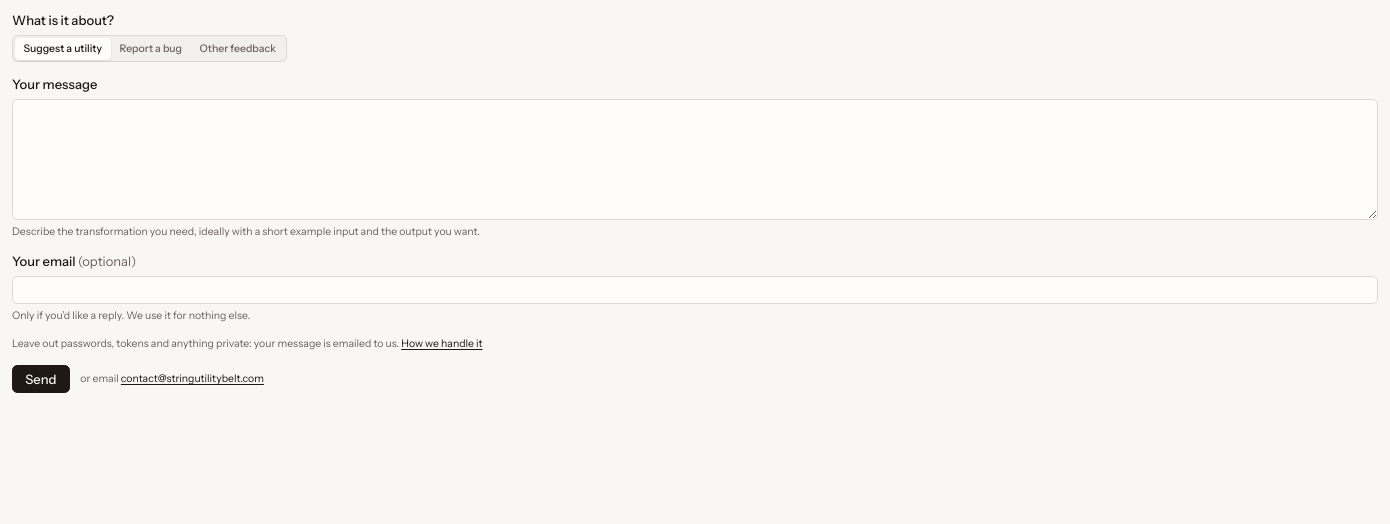
Test: FeedbackForm › offers the visitor’s email app, with the message written out, when it cannot be sent
This screenshot has width=1390, height=524.
In the text box labelled "Your message": {"x": 695, "y": 160} [12,99,1378,220], type "CSV to a Markdown table, please"
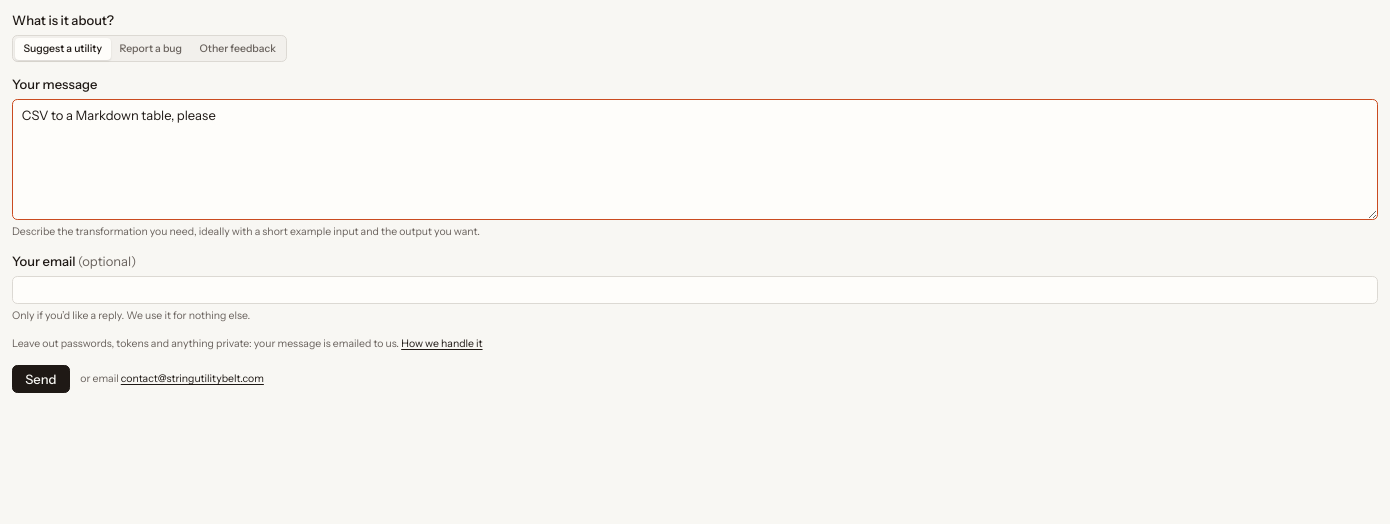
Click the button "Send": {"x": 41, "y": 379} [12,365,70,393]
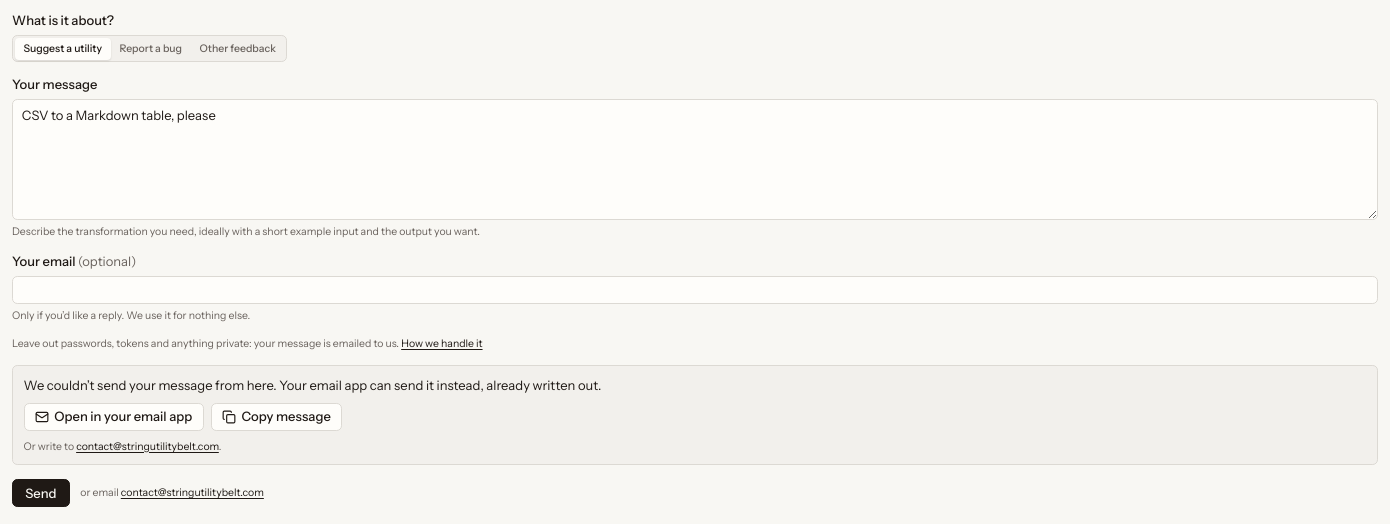
Check: the link "contact@stringutilitybelt.com" next to "Or write to" is shown, box [76,440,219,453]
Check: the message shows "couldn’t send", box [24,377,601,393]
